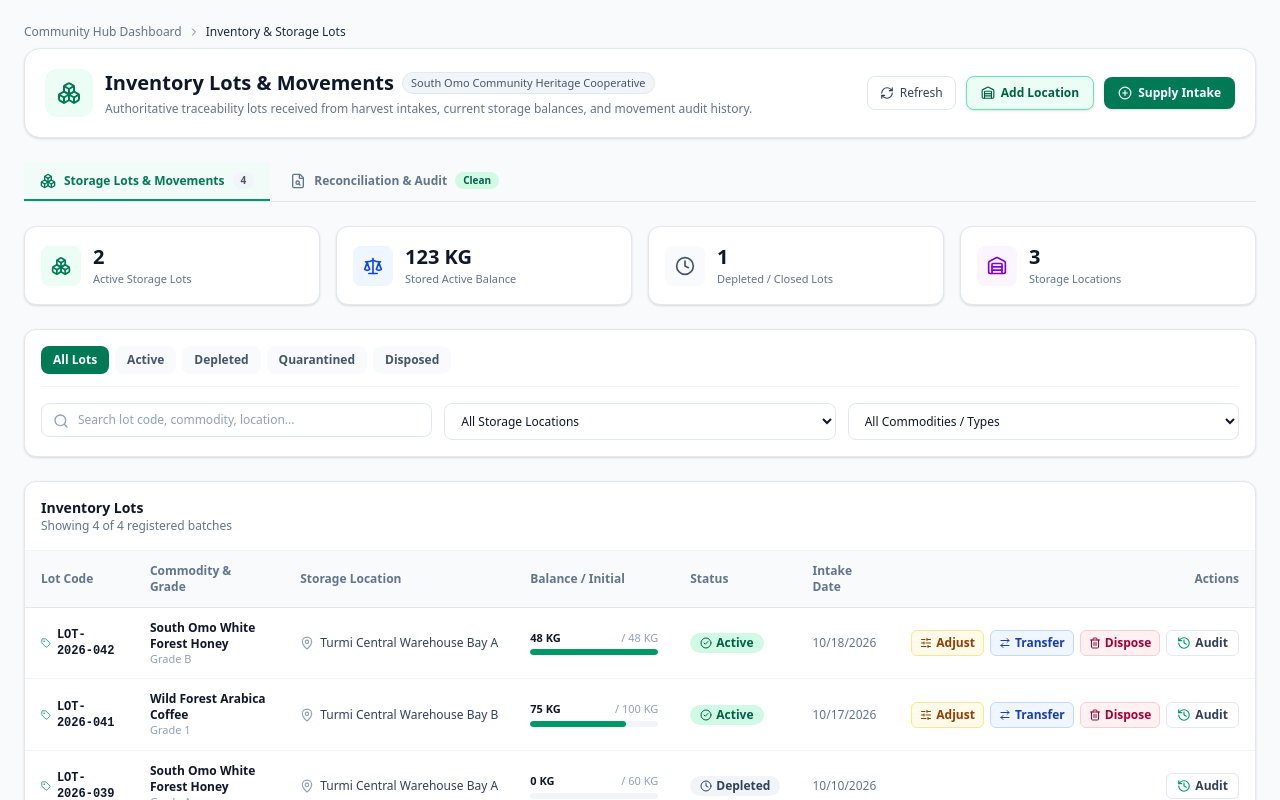
F-902: Inventory Adjustments, Transfers, and Disposals › validates mandatory reason and confirmation checkbox for adjustments
Click the button with test id "adjust-lot-btn-lot-001" at (948, 643), box x1=911 y1=630 x2=984 y2=656
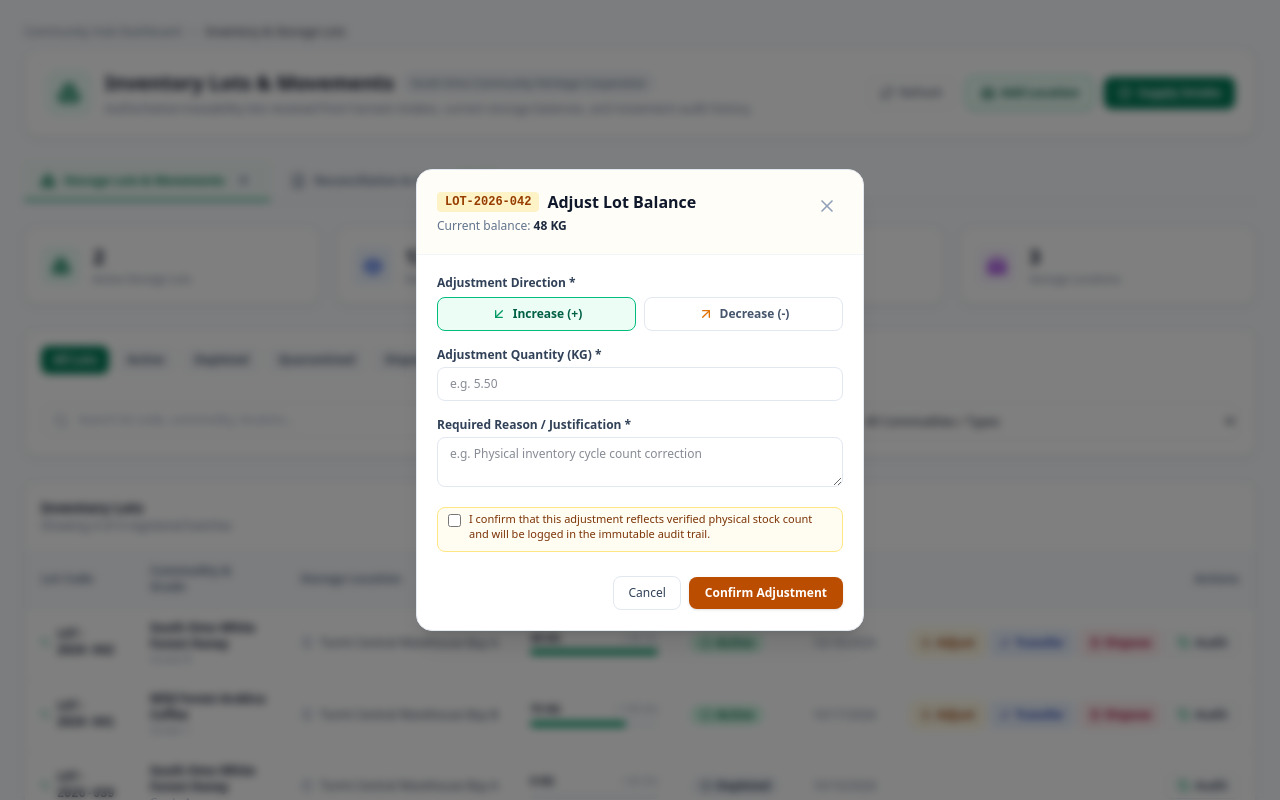
Check: the element with test id "adjust-lot-modal" is shown
// Enter quantity but leave reason empty
Type "5" into the number field with test id "adjust-quantity-input" at (640, 384), box x1=437 y1=367 x2=843 y2=401
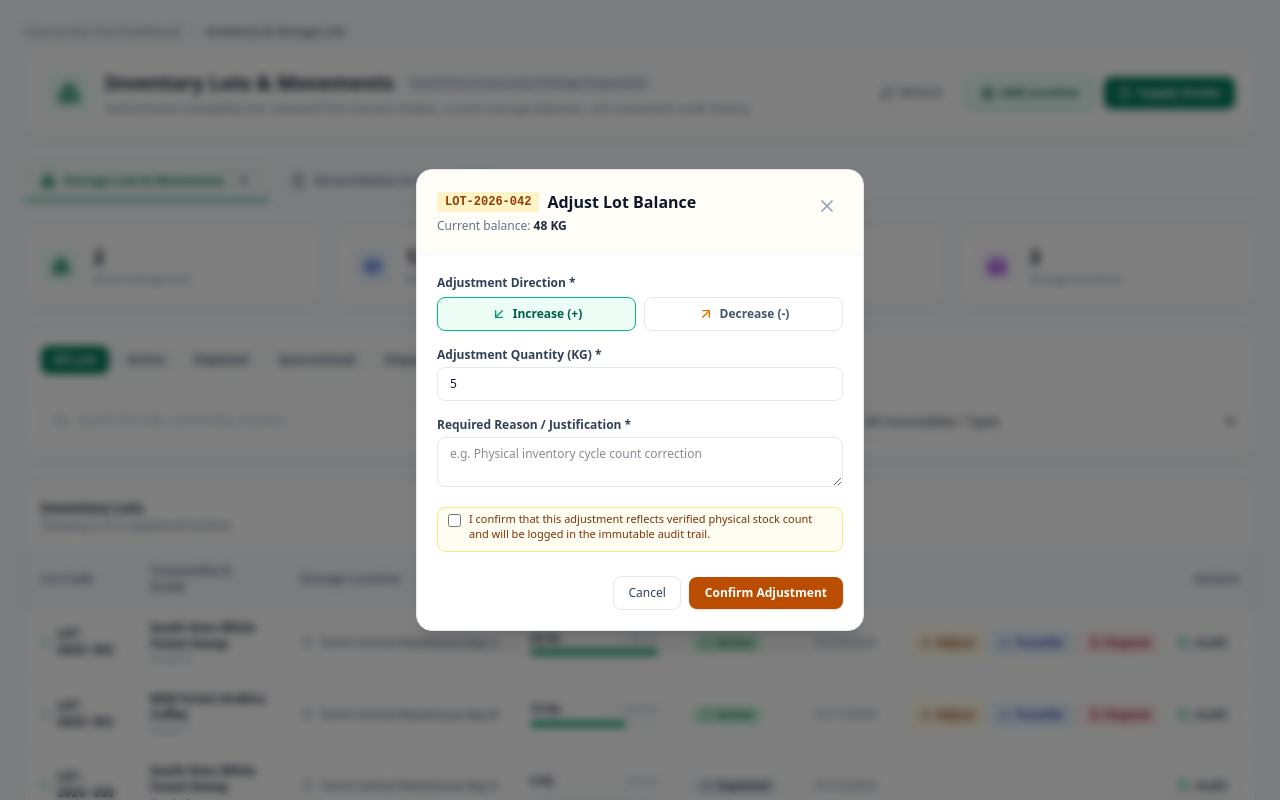
Click the button with test id "submit-adjust-btn" at (766, 593), box x1=689 y1=577 x2=843 y2=609
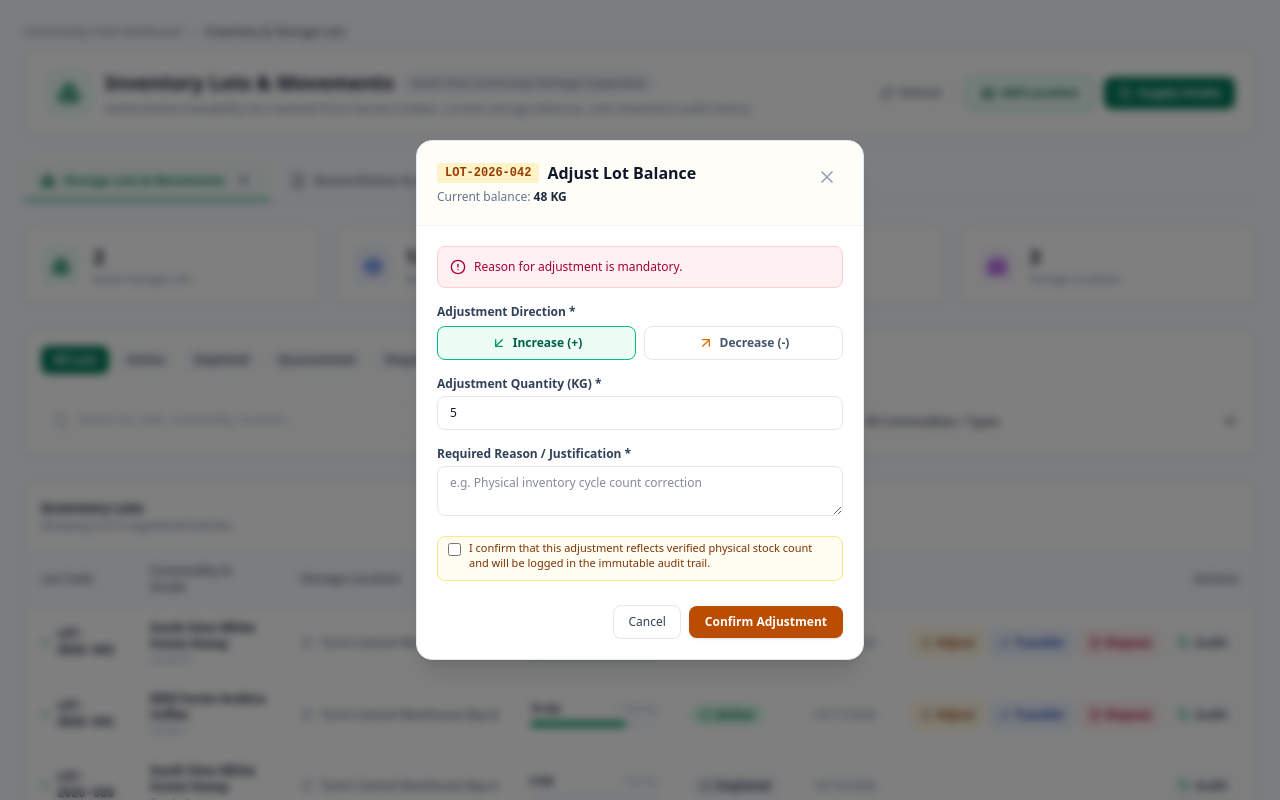
Check: the element with test id "adjust-error-alert" reads "Reason for adjustment is mandatory.", box x1=474 y1=258 x2=682 y2=275
// Add reason but don't check confirmation
Type "Physical cycle count correction" into the text box with test id "adjust-reason-input" at (640, 491), box x1=437 y1=466 x2=843 y2=516
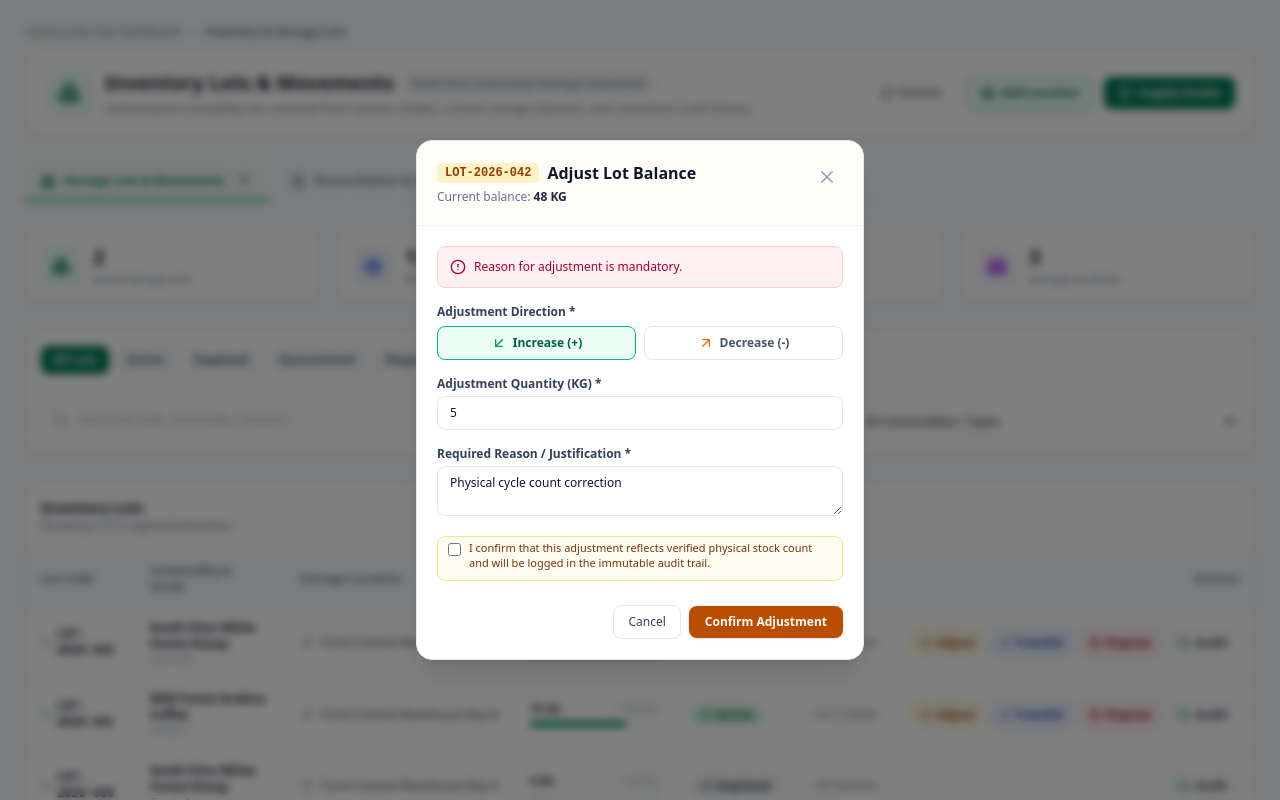
Click the button with test id "submit-adjust-btn" at (766, 622), box x1=689 y1=606 x2=843 y2=638
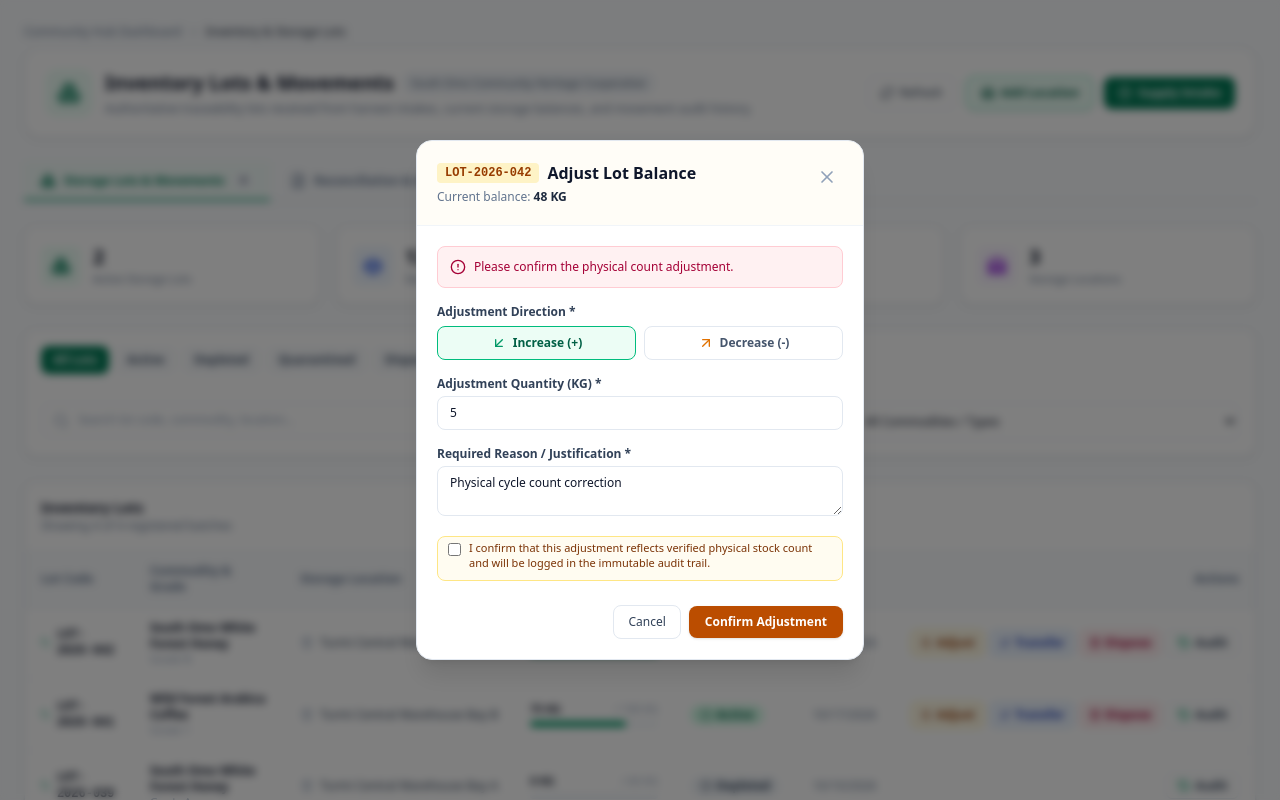
Check: the element with test id "adjust-error-alert" reads "Please confirm the physical count adjustment.", box x1=474 y1=258 x2=734 y2=275
